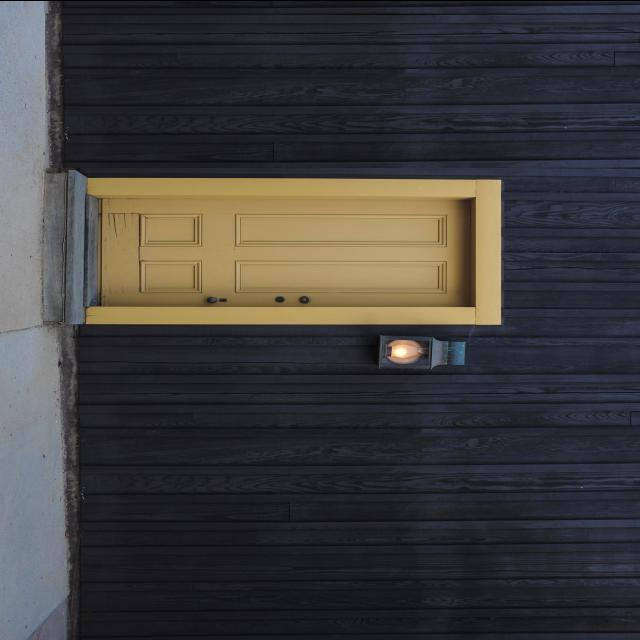close: (74, 180, 496, 320)
